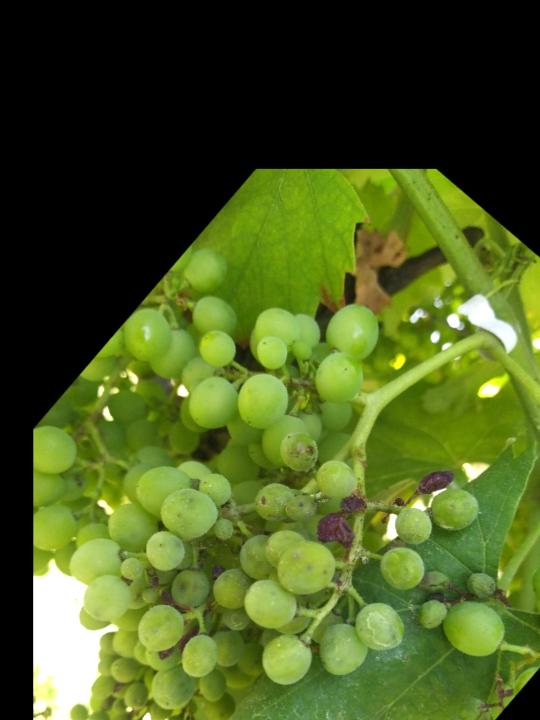grape: (3, 239, 540, 720)
